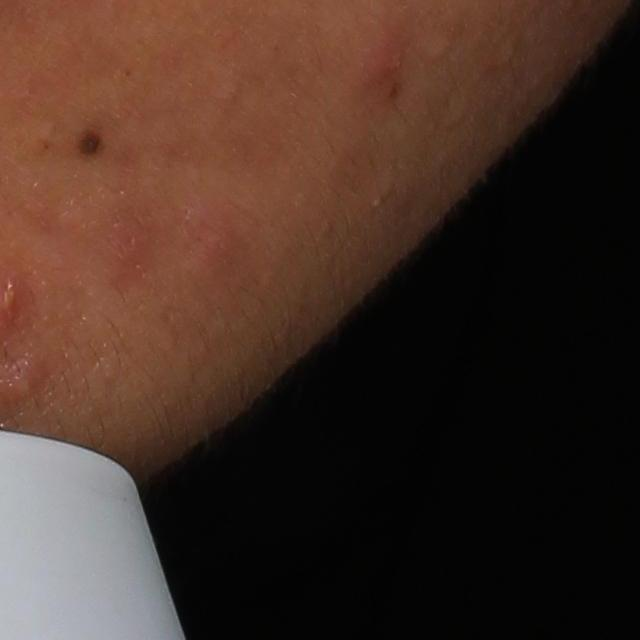nevus: (72, 127, 104, 161)
papule: (177, 198, 242, 277), (361, 33, 414, 92)
